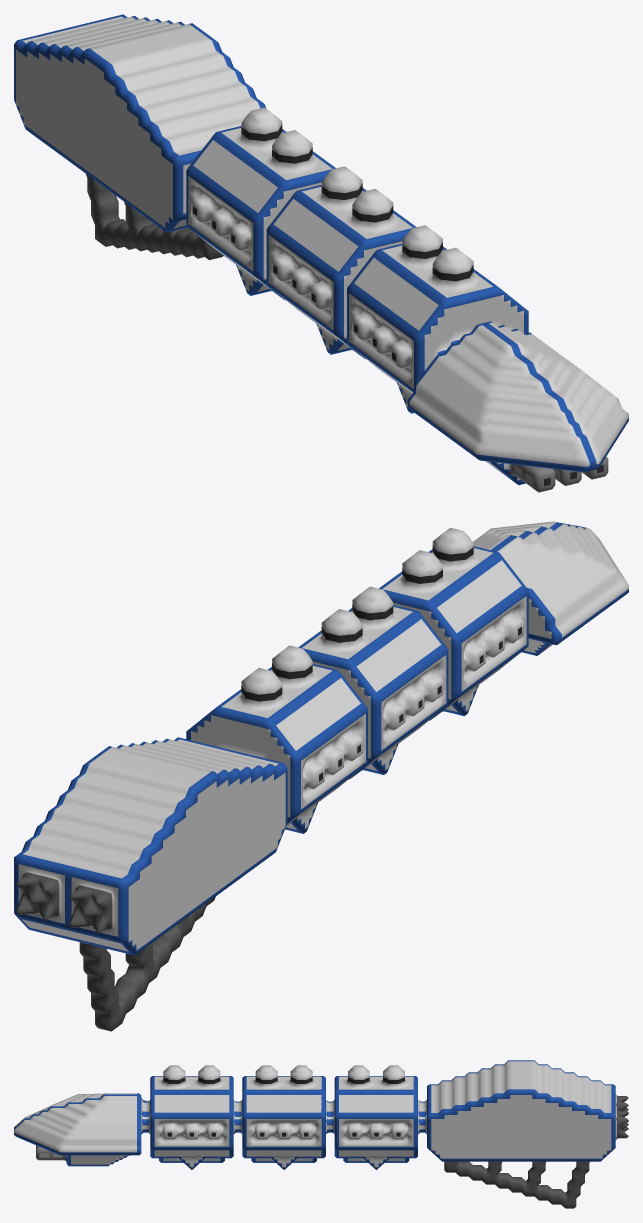
File: diadochi-4-charybdis-class.obj
The picture shows the model from 3 angles, top to bottom: view 1: azimuth 30°, elevation 25°; view 2: azimuth 150°, elevation 25°; view 3: azimuth 270°, elevation 25°; orthographic projection. The views are drawn at different scales.
Bounding box in the file's own units: 23 × 35 × 140.
Materials: 1 (1 with a texture image).
